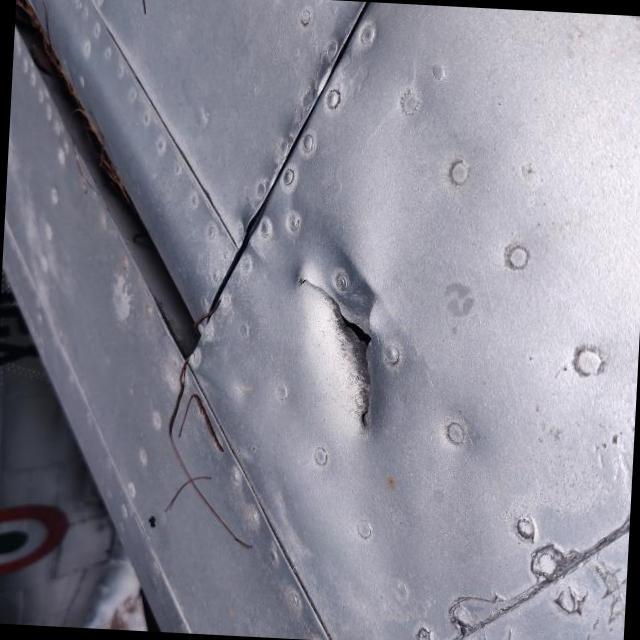Rupture: (266, 227, 434, 464)
